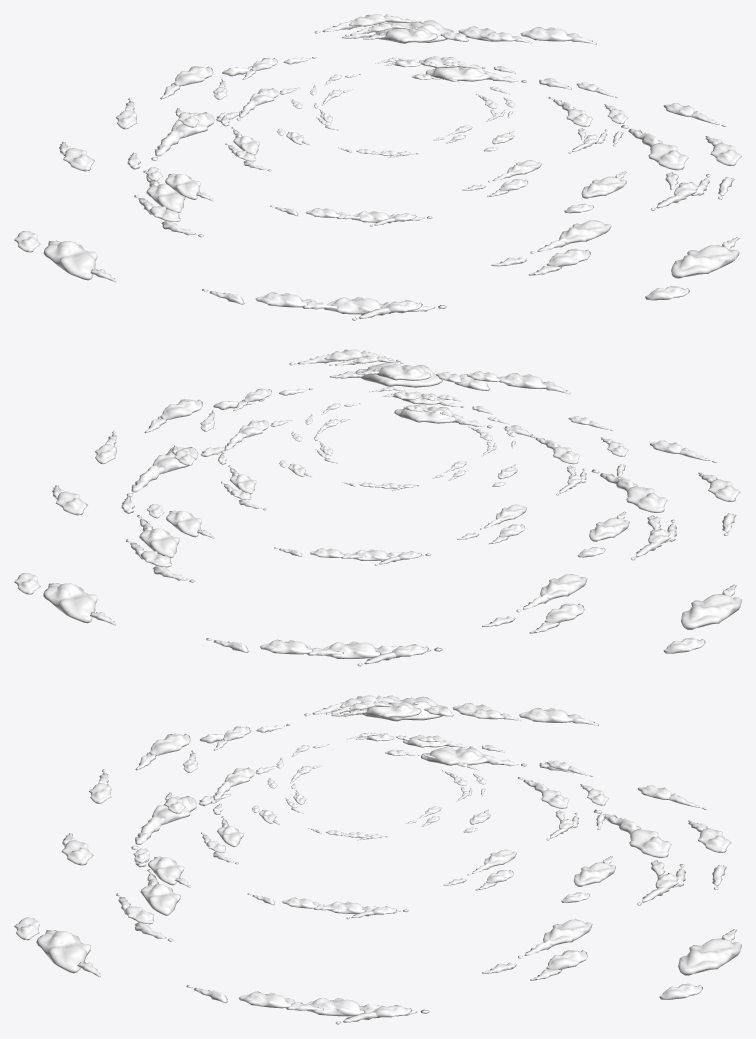
The model's file is Sky_Cloud.fbx.
The picture shows the model from 3 angles, top to bottom: view 1: azimuth 30°, elevation 25°; view 2: azimuth 150°, elevation 25°; view 3: azimuth 270°, elevation 25°; orthographic projection. The views are drawn at different scales.
Visible parts, largest first — view 1: SM_Generic_CloudRing_01, SM_Generic_CloudRing_002, SM_Generic_CloudRing_003; view 2: SM_Generic_CloudRing_01, SM_Generic_CloudRing_002, SM_Generic_CloudRing_003; view 3: SM_Generic_CloudRing_01, SM_Generic_CloudRing_002, SM_Generic_CloudRing_003.
Part boxes in pixels (x1,y1,x2,y2): SM_Generic_CloudRing_01: [14, 14, 741, 320]; SM_Generic_CloudRing_002: [145, 23, 628, 226]; SM_Generic_CloudRing_003: [276, 57, 515, 158]; SM_Generic_CloudRing_01: [14, 349, 741, 666]; SM_Generic_CloudRing_002: [147, 355, 629, 565]; SM_Generic_CloudRing_003: [279, 387, 517, 490]; SM_Generic_CloudRing_01: [14, 695, 741, 1024]; SM_Generic_CloudRing_002: [133, 701, 615, 919]; SM_Generic_CloudRing_003: [252, 732, 490, 840].
Size of the model in its own units: 18141 by 16962 by 2948.
